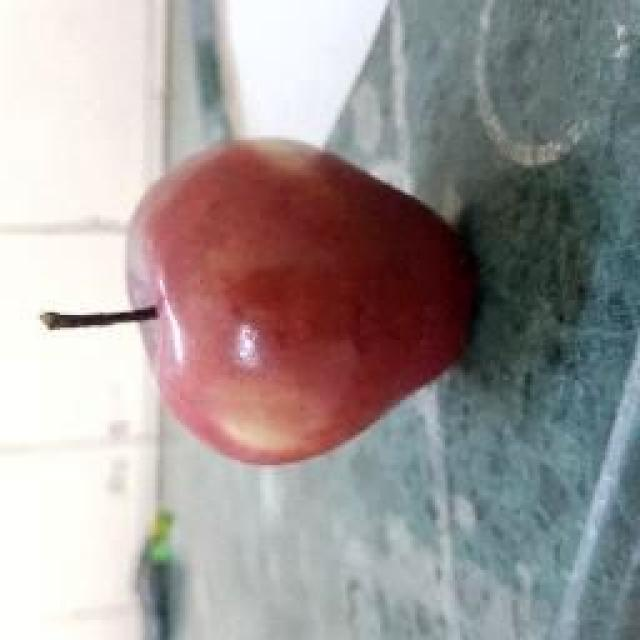Good_Apple: (40, 138, 480, 470)
